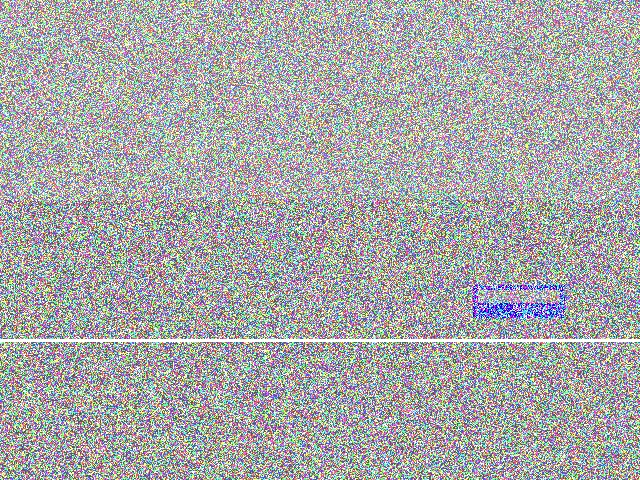bus: (138, 216, 226, 275)
car: (351, 174, 416, 301)
